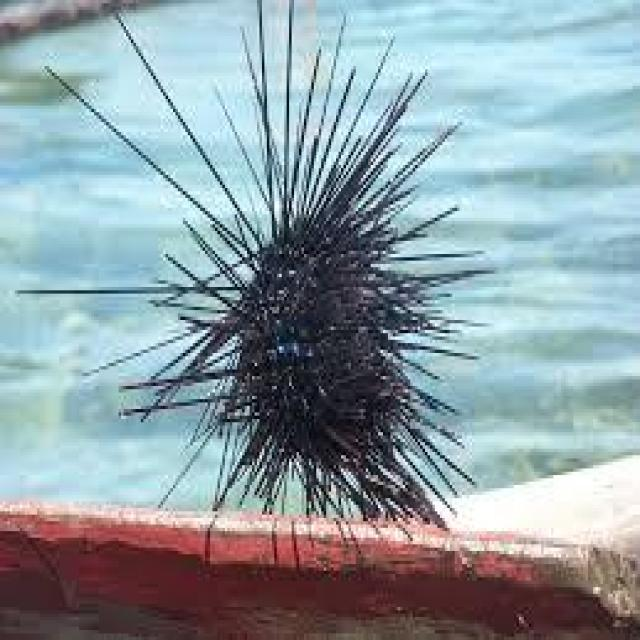Urchin: (61, 50, 496, 541)
